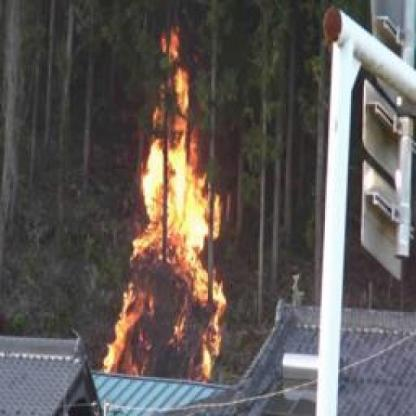fire: (105, 72, 227, 378)
